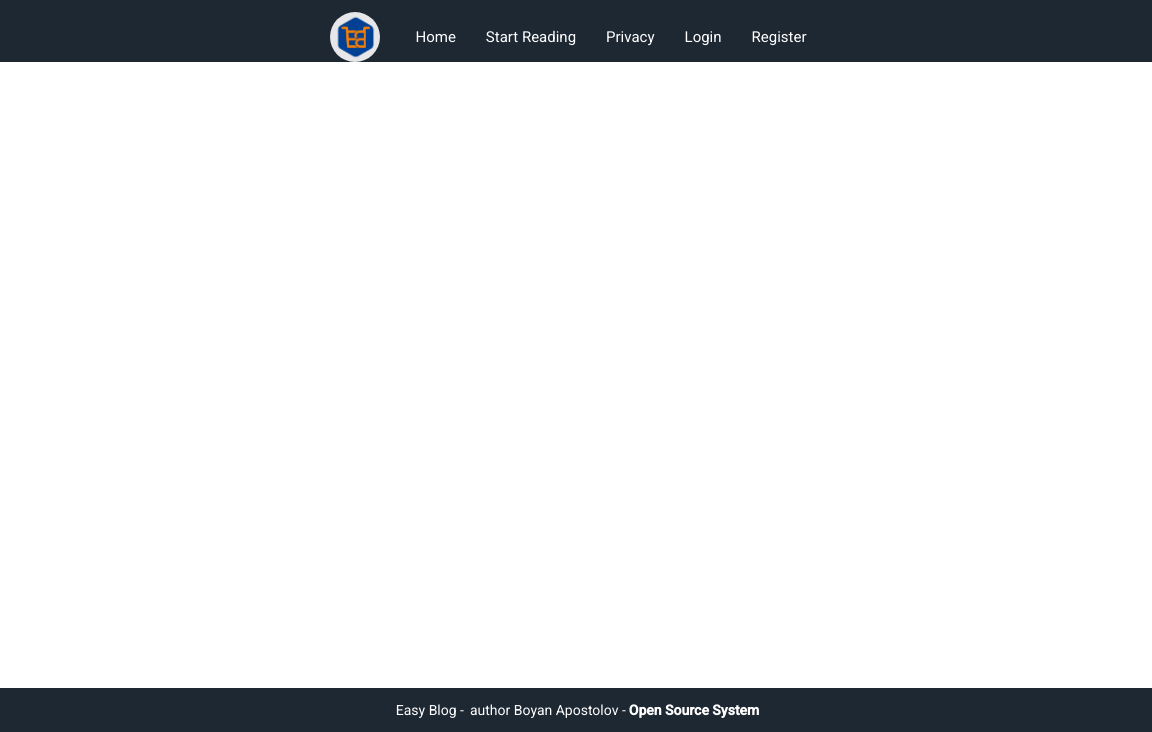
Test: /Auth/Register tests › register form loads correctly
The image size is (1152, 732).
Click the link "Register": (780,37) [752,28,807,46]
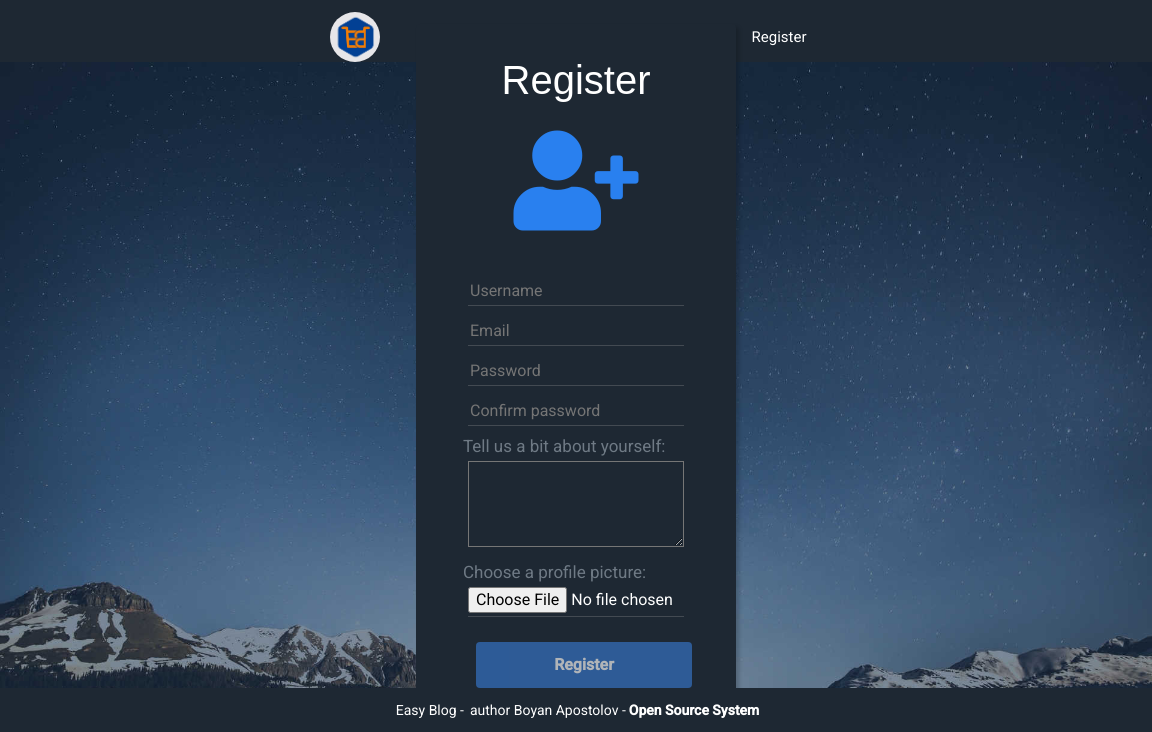
Expected: the number of headings is 1, [456,64,696,96]
Expected: the number of buttons is 1, [476,642,692,688]
